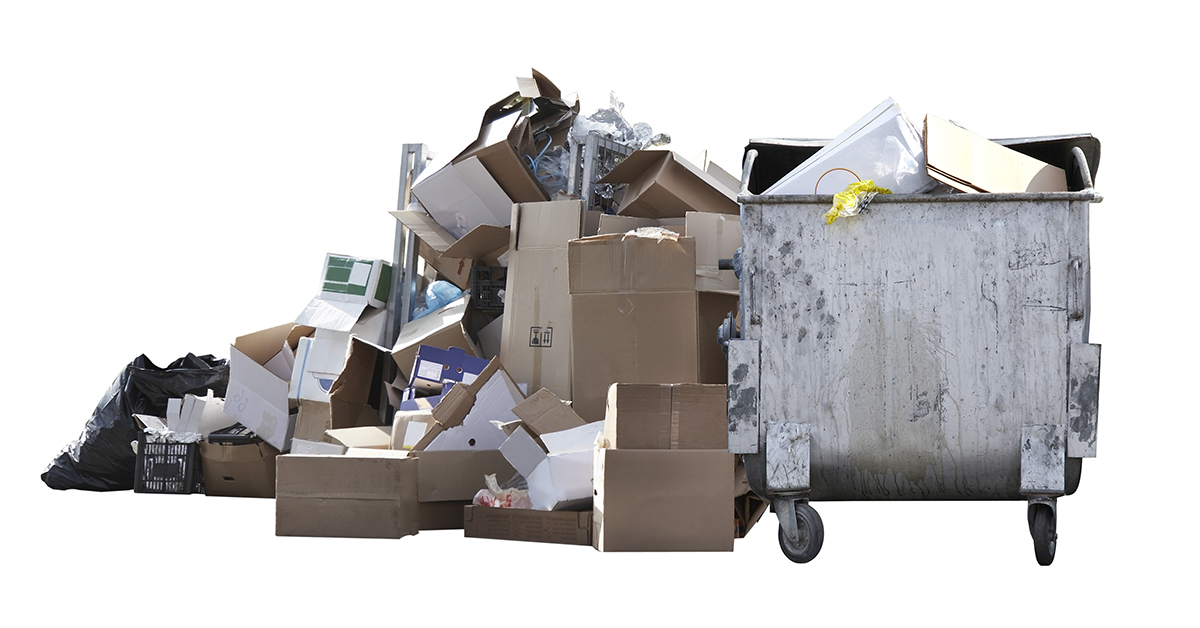Dumpster: (723, 130, 1116, 571)
